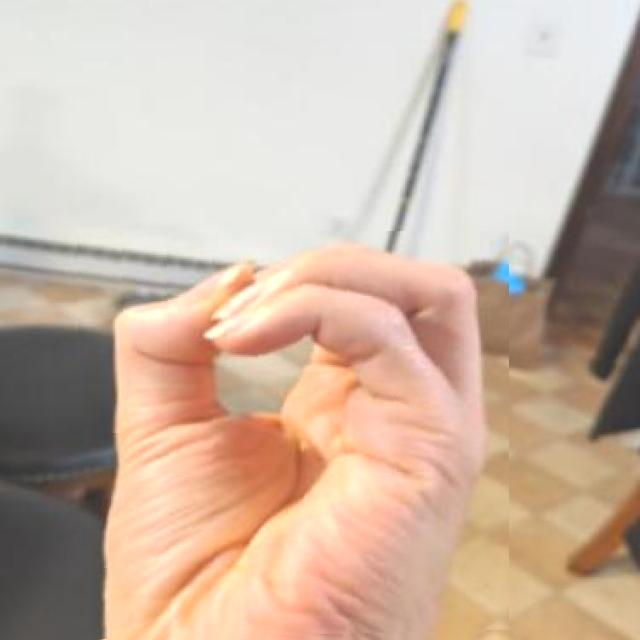O: (54, 231, 509, 640)
